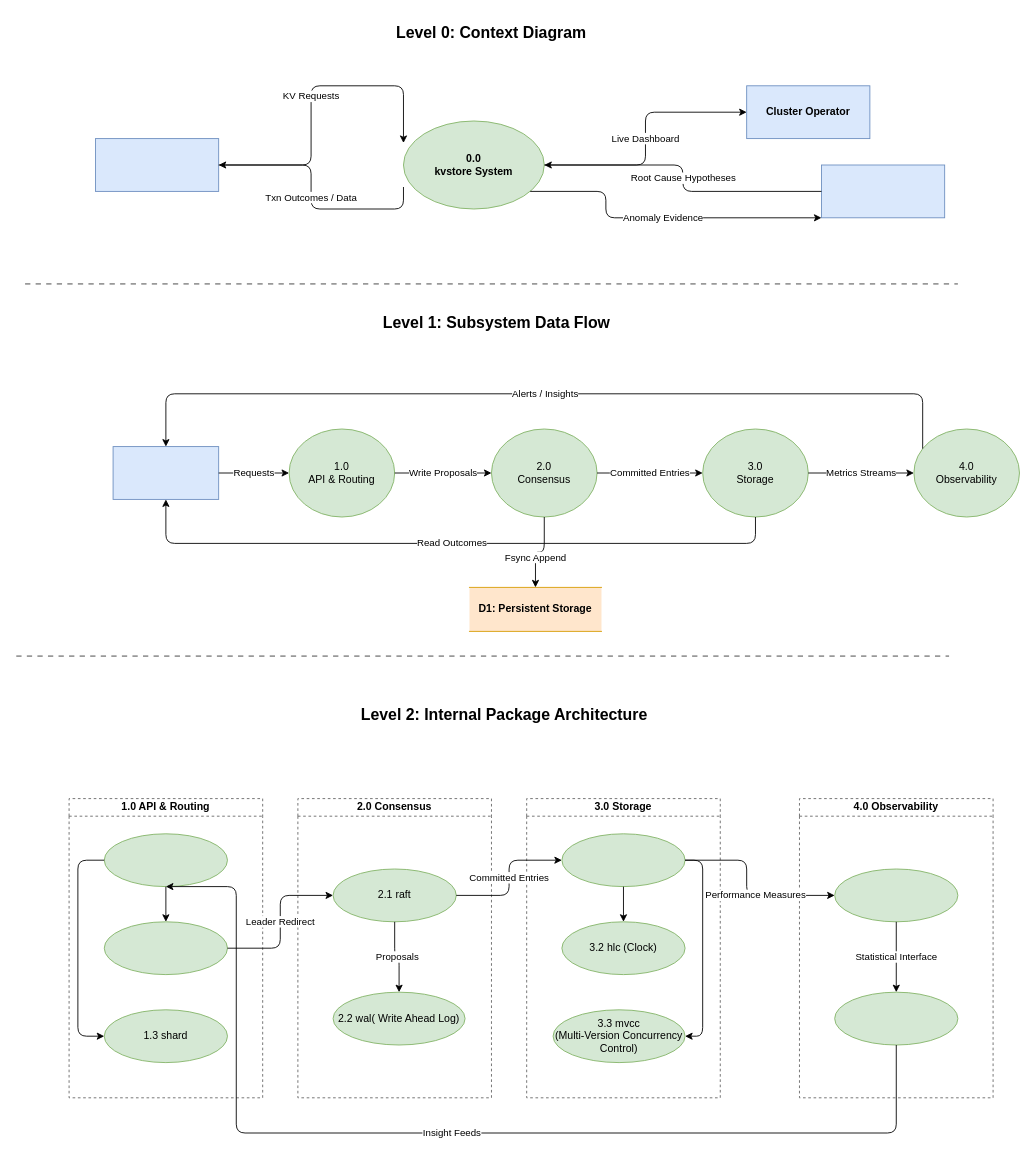
Some shapes in this 1035 by 1155 pixel diagram are drawn without their labels. The shapes that lost their labels are listed below. From the top down, each one's centre as x and y in pixels, then its label:
the point at 157,164: Client Application
the point at 883,191: External LLM Provider
the point at 165,472: External Entities
the point at 165,860: 1.1 httpapi / transport
the point at 623,860: 3.1 storage
the point at 896,895: 4.1 metrics
the point at 165,948: 1.2 client
the point at 896,1018: 4.2 ai
